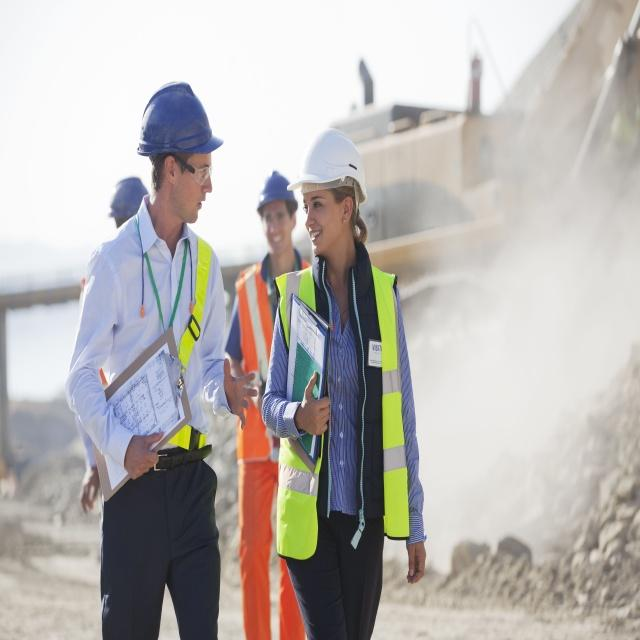helmet: (137, 104, 223, 299), (286, 168, 372, 341), (255, 225, 297, 336), (109, 236, 152, 309)
vest: (274, 349, 424, 640), (223, 337, 303, 620)
